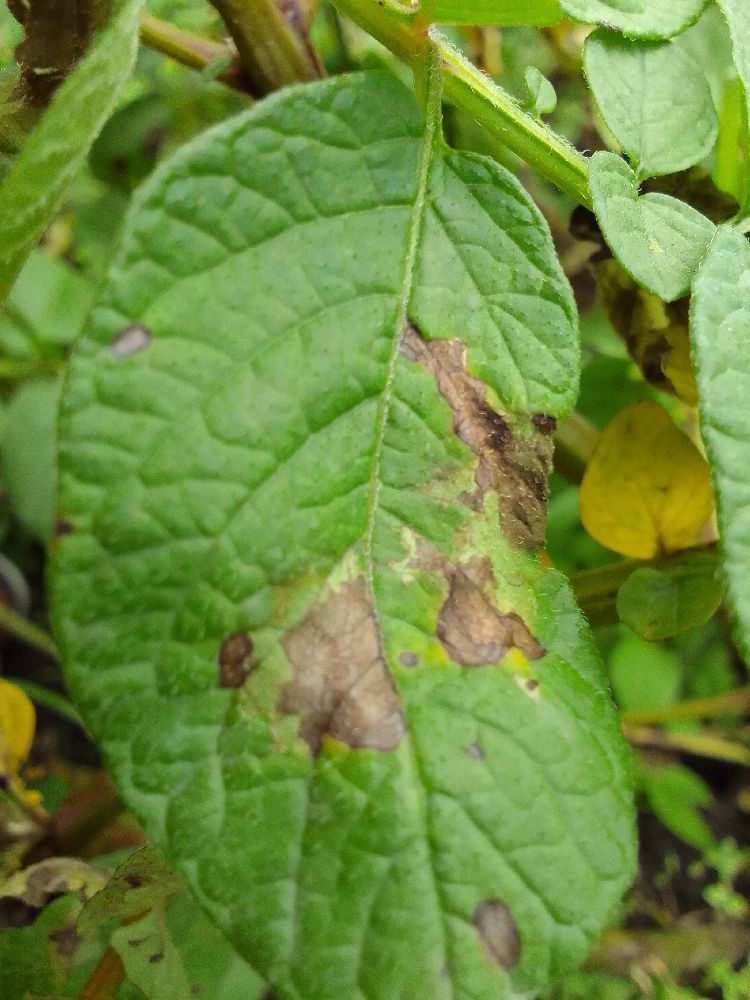late_blight: (385, 190, 734, 708), (0, 498, 241, 1000), (253, 552, 424, 791), (118, 0, 351, 131)
